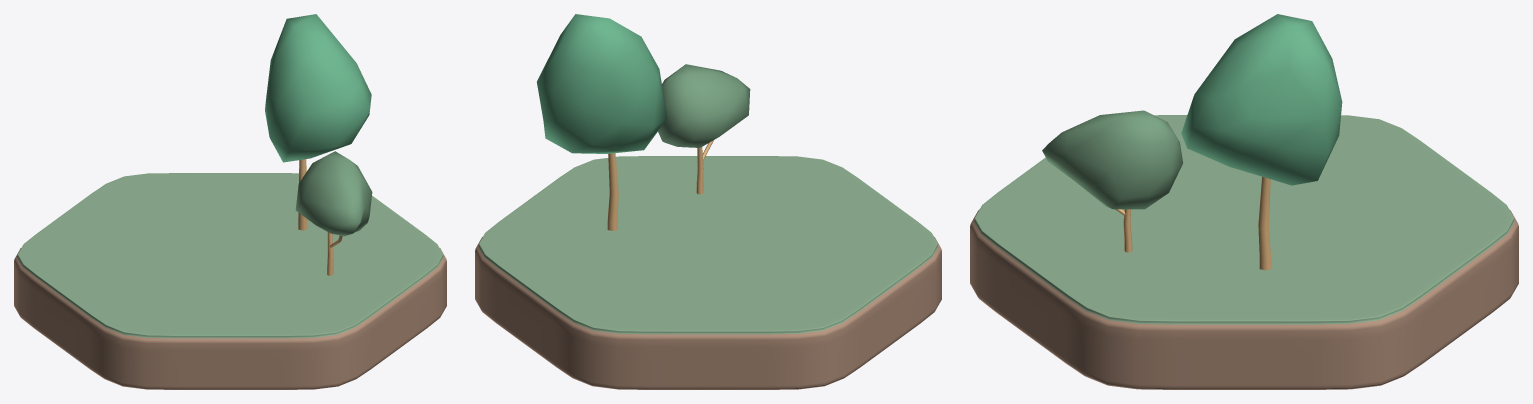
Rendered from tile1.glb.
The picture shows the model from 3 angles, left to right: view 1: azimuth 30°, elevation 25°; view 2: azimuth 150°, elevation 25°; view 3: azimuth 270°, elevation 25°; orthographic projection. The views are drawn at different scales.
Parts seen in each view (by area): view 1: Tile, RedTree, GreenTree; view 2: Tile, RedTree, GreenTree; view 3: Tile, RedTree, GreenTree.
Part boxes in pixels (x1,y1,x2,y2): Tile: (14, 173, 446, 389); RedTree: (265, 14, 371, 230); GreenTree: (295, 151, 372, 275); Tile: (475, 156, 941, 389); RedTree: (537, 14, 667, 230); GreenTree: (658, 64, 750, 194); Tile: (970, 115, 1518, 389); RedTree: (1181, 14, 1342, 270); GreenTree: (1042, 110, 1182, 252).
Bounding box in the file's own units: 27.55 × 19.94 × 30.48.
